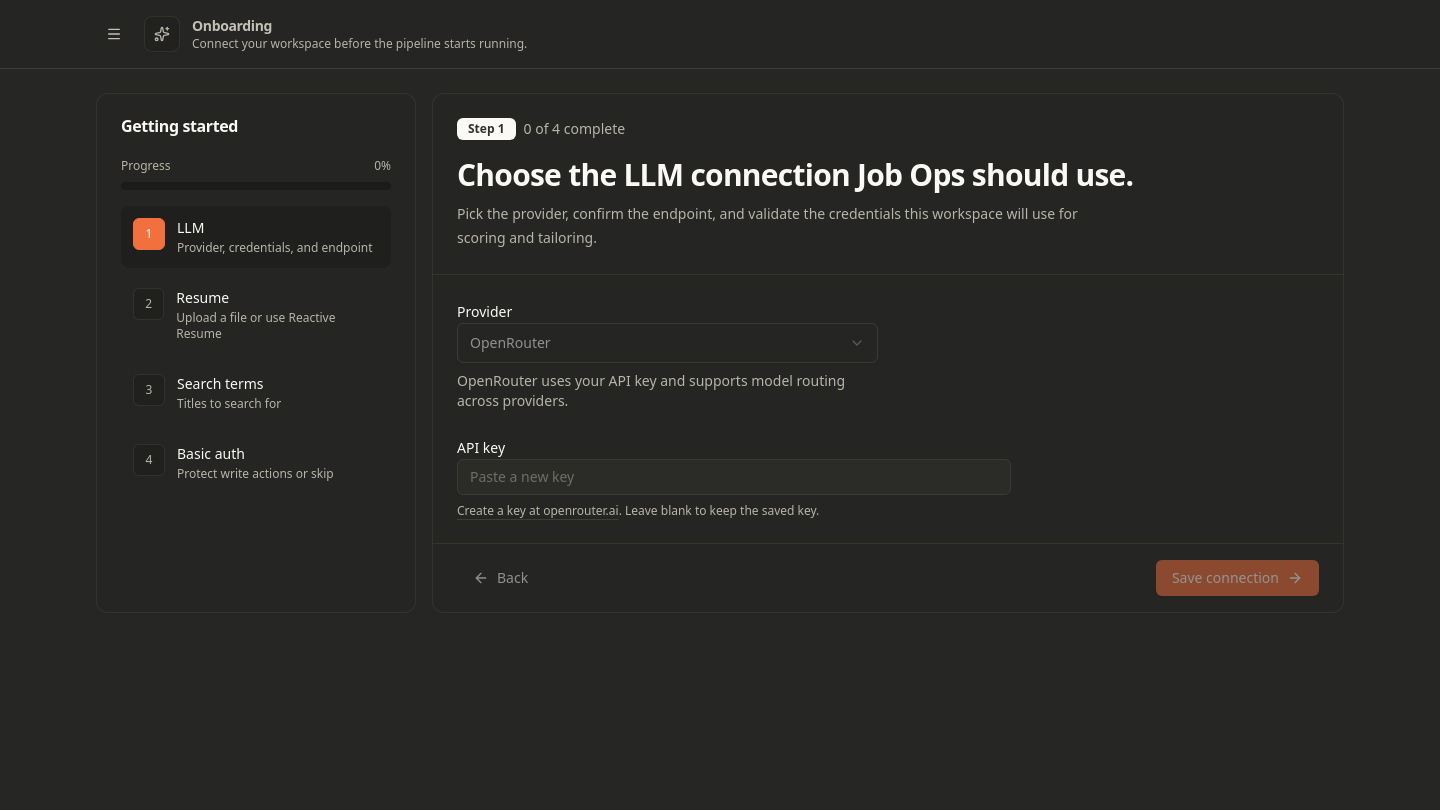
OnboardingPage › auto-populates search terms from the resume when no explicit override exists
The width and height of the screenshot is (1440, 810).
Click the button "3 Search terms Titles to search for": (256, 393) [121,362,391,424]
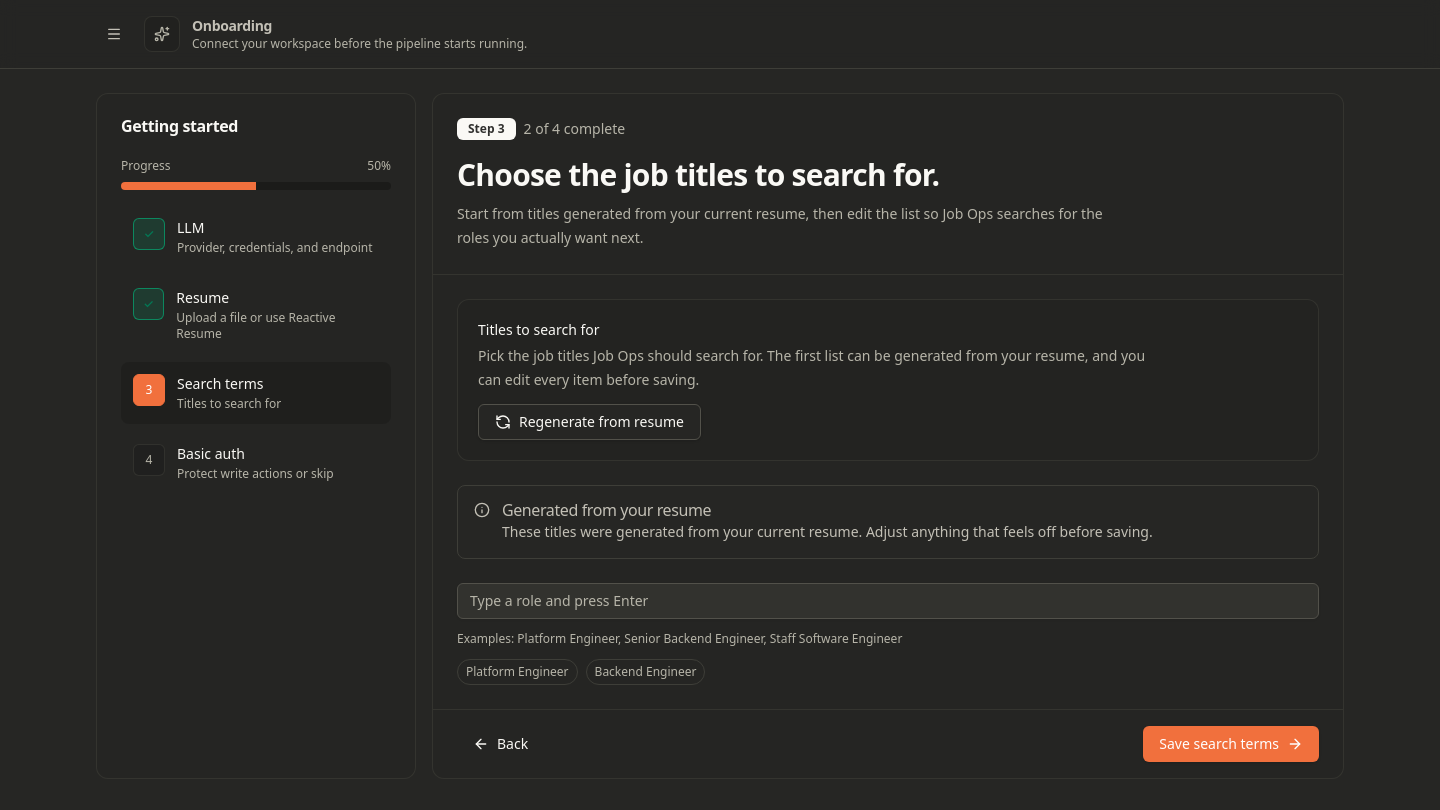
Expected: the heading "Generated from your resume" is shown, [502,498,711,520]
Expected: the text "Platform Engineer" is shown, [457,658,578,684]
Expected: the text "Backend Engineer" is shown, [586,658,706,684]
